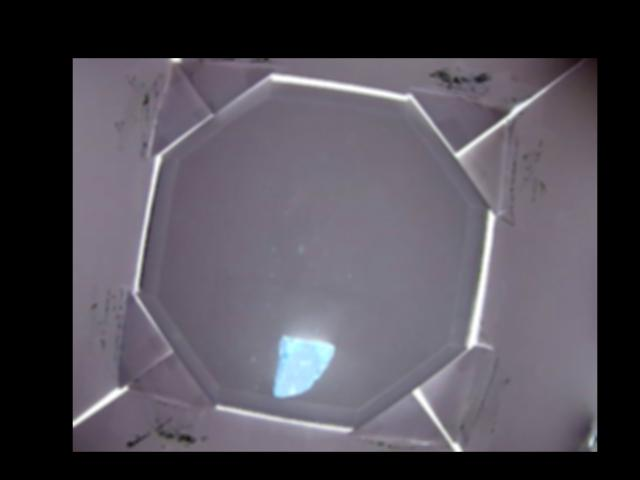Brisk: (272, 336, 335, 399)
